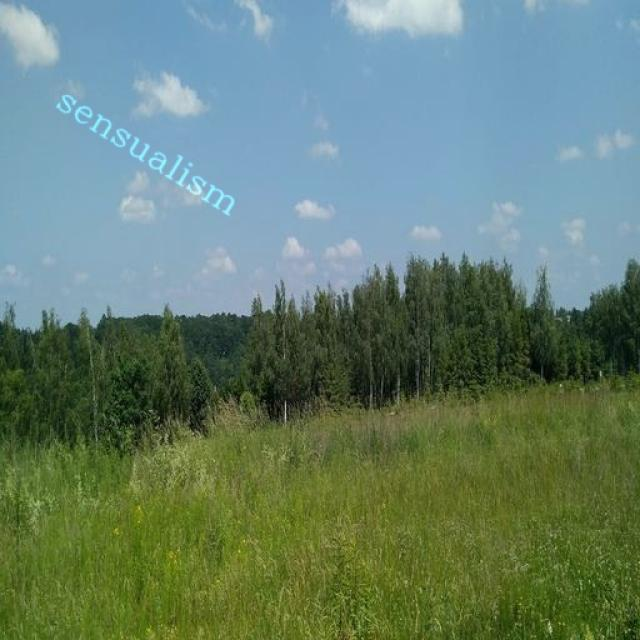watermark: (45, 78, 256, 222)
